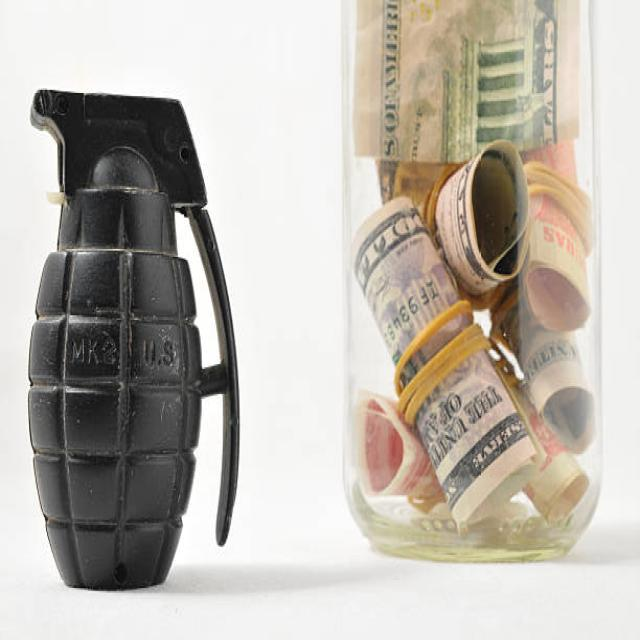grenade: (18, 70, 253, 621)
